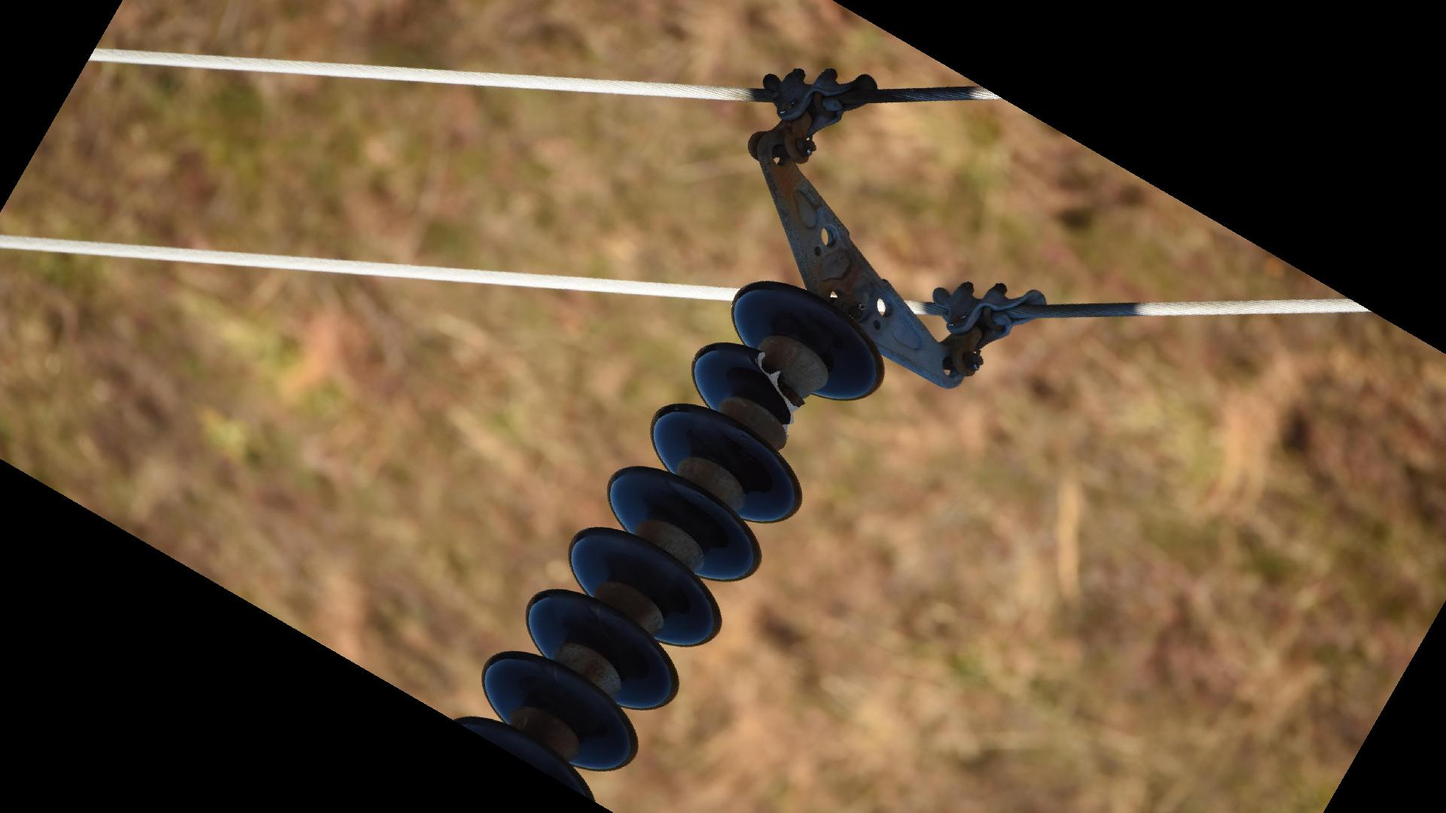insulator: (444, 276, 890, 805)
insulator_breakage: (741, 344, 811, 440)
